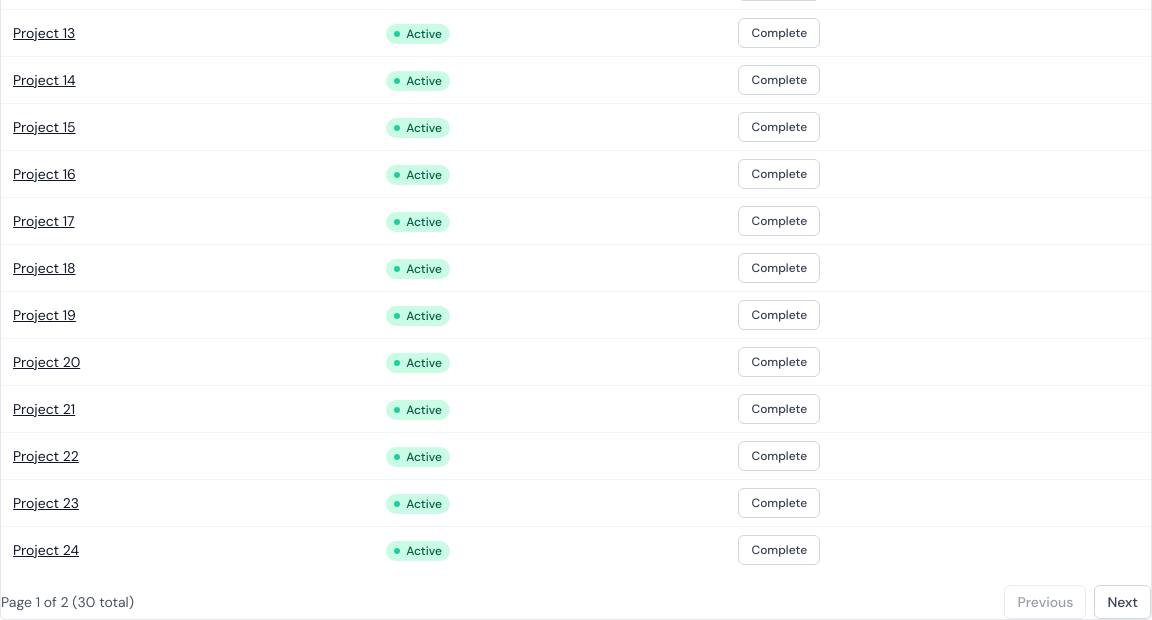
Test: ProjectsPage › paginates the list and navigates between pages
(page scrolled)
Check: the text "Page 1 of 2 (30 total)" is shown, box [1, 592, 134, 612]
Check: the text "Project 25" is not shown
Click the button "Next": (1123, 602) [1094, 585, 1151, 619]
(page scrolled)
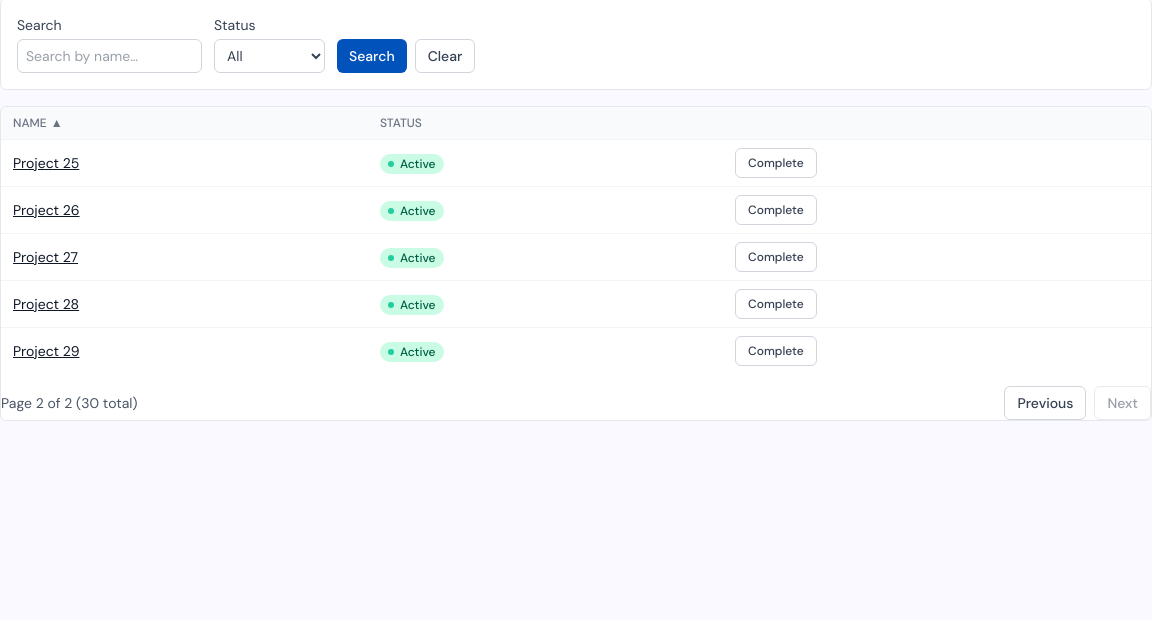
Check: the link "Project 25" is shown, box [13, 154, 79, 172]
Check: the number of links "Project 25" is 5, box [13, 154, 79, 172]; [13, 201, 80, 219]; [13, 248, 78, 266]; [13, 295, 79, 313]; [13, 342, 79, 360]
